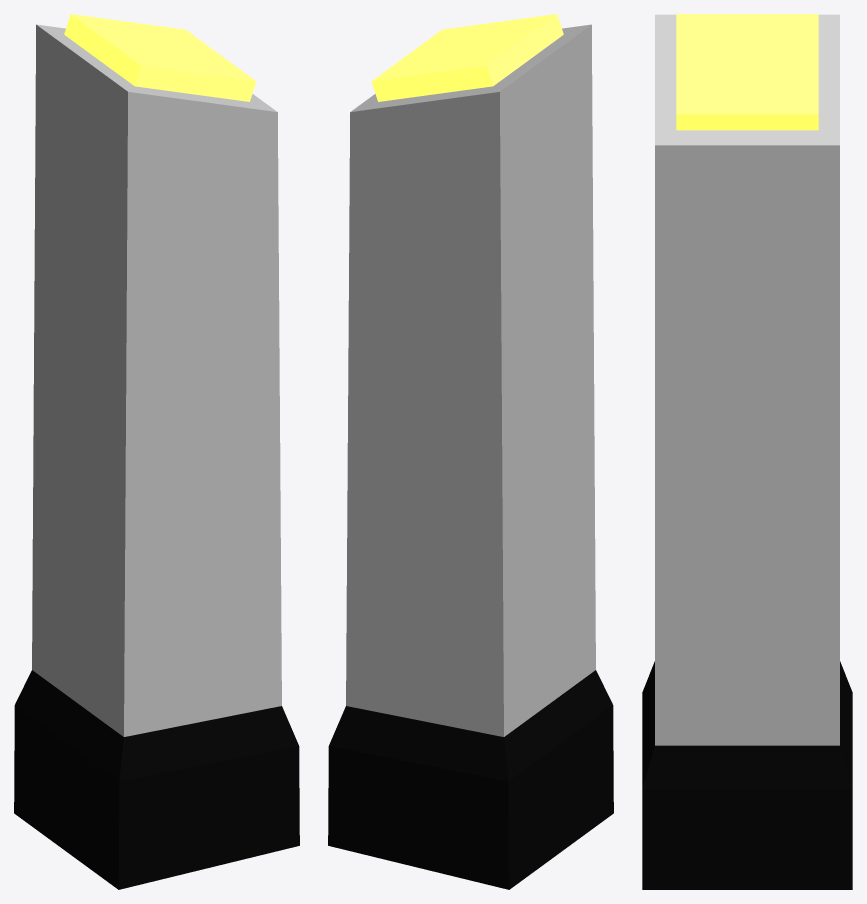
File: ButtonYellow.glb
The picture shows the model from 3 angles, left to right: view 1: azimuth 30°, elevation 25°; view 2: azimuth 150°, elevation 25°; view 3: azimuth 270°, elevation 25°; orthographic projection.
Parts seen in each view (by area): view 1: Cube; view 2: Cube; view 3: Cube.
Part boxes in pixels (x1,y1,x2,y2): Cube: [14, 14, 299, 889]; Cube: [328, 14, 613, 889]; Cube: [642, 14, 852, 889].
Size of the model in its own units: 0.2882 by 1.22 by 0.2882.
